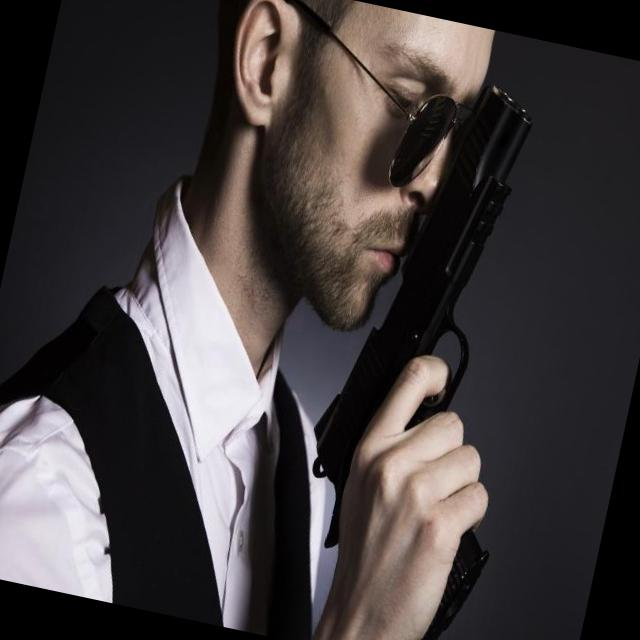Gun: (312, 87, 532, 547), (420, 530, 489, 640)
